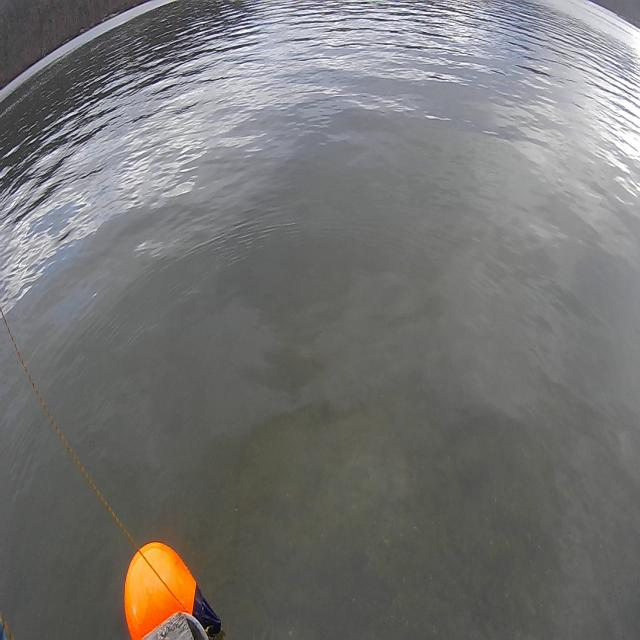Buoy: (122, 533, 226, 640)
